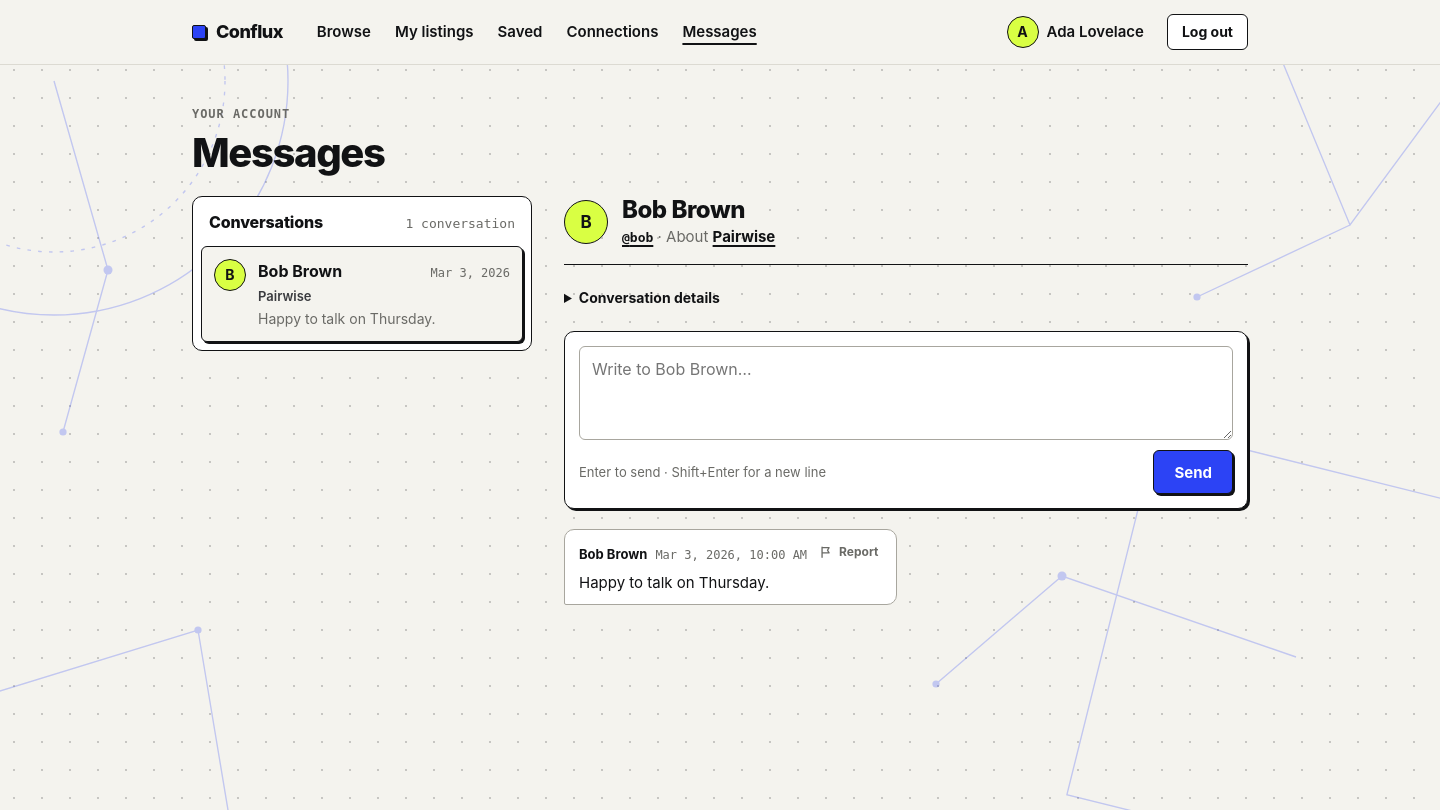
Test case: Sending a message › inserts the message without reloading the thread, and refreshes the list and details from the backend
This screenshot has width=1440, height=810.
Expected: the text "Happy to talk on Thursday." below "Mar 3, 2026, 10:00 AM" is shown, [579,573,769,592]
Type "See you Thursday at 10." into the text box named "Message to Bob Brown" at (906, 393), box [579,346,1233,440]
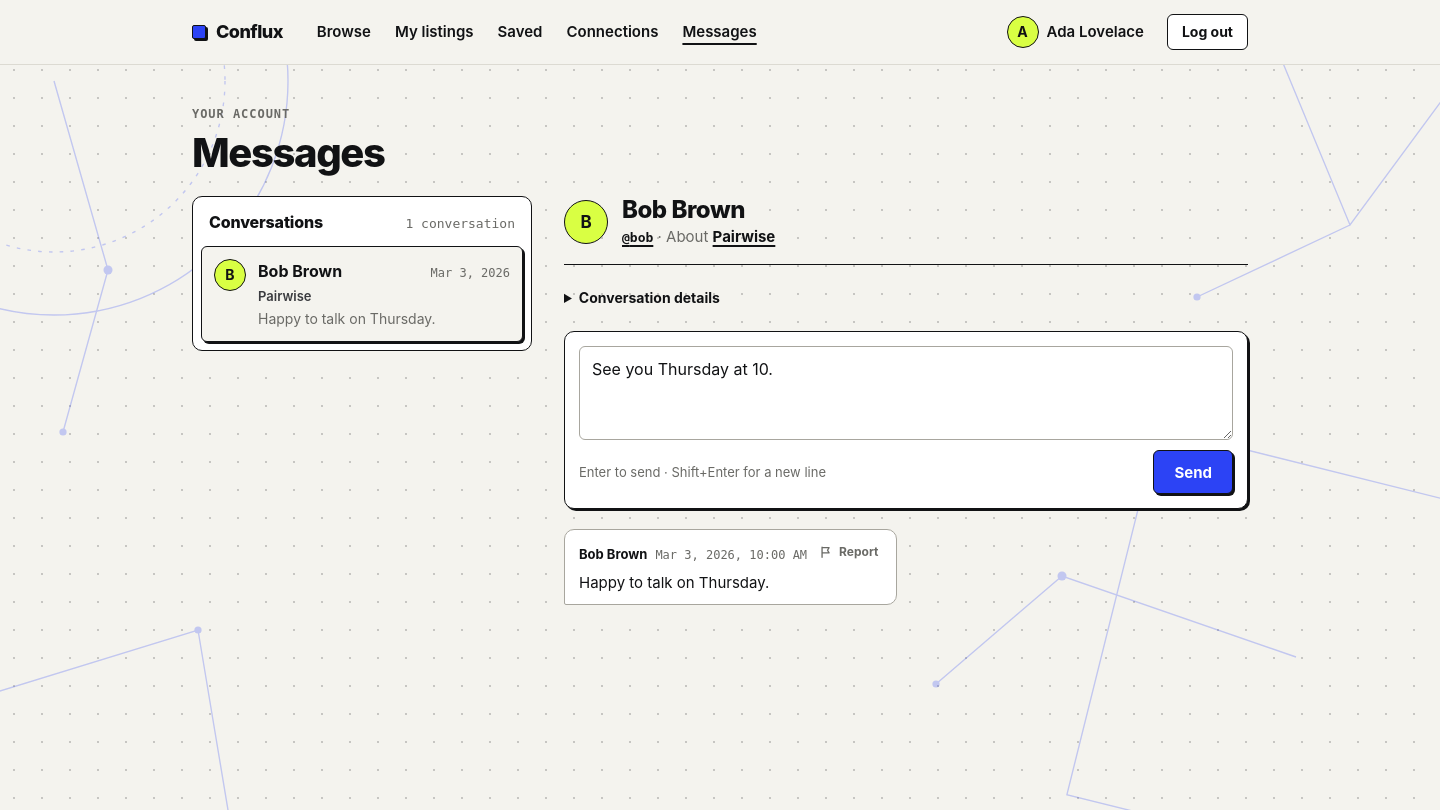
Click the button "Send" at (1193, 472), box [1153,450,1233,494]
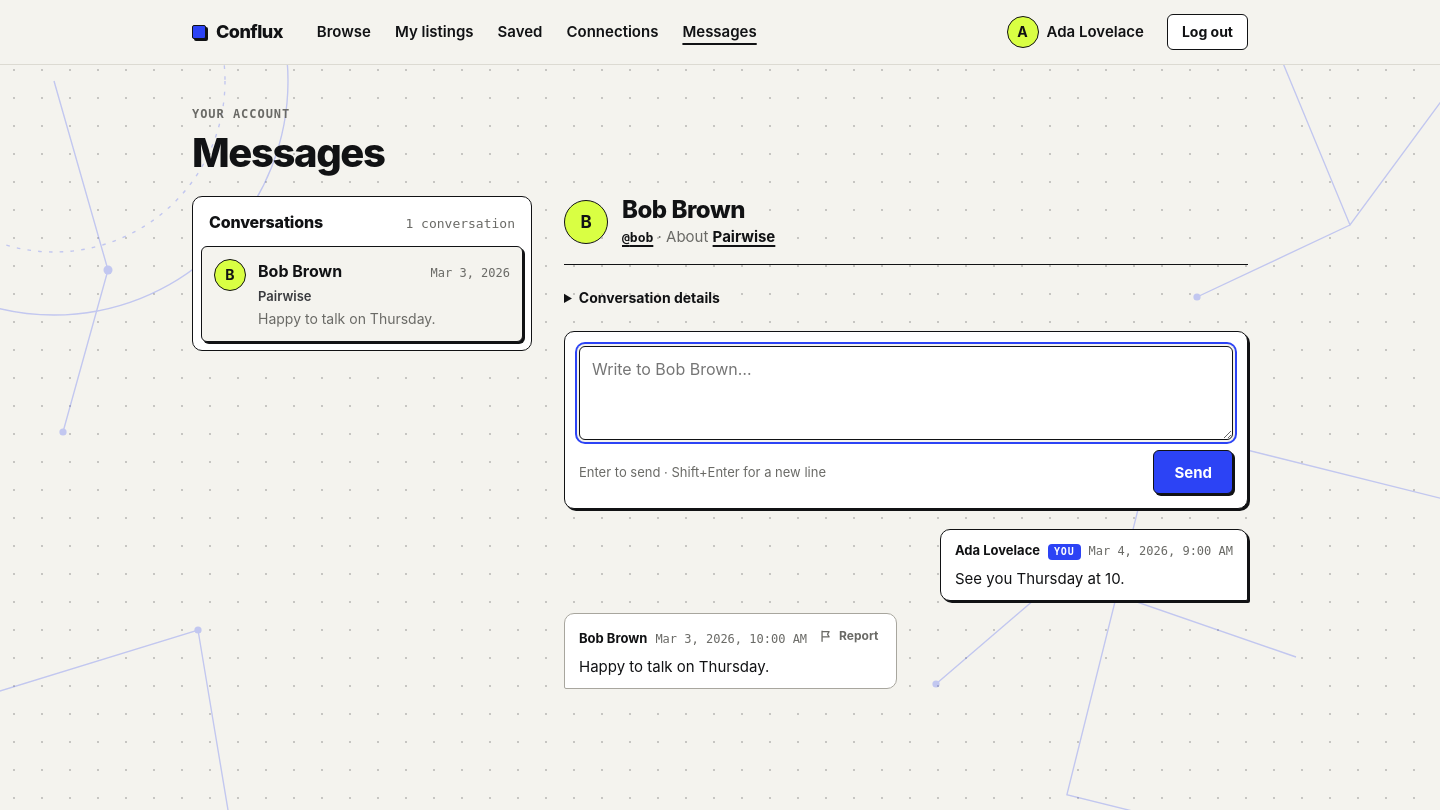
Expected: the heading "Bob Brown" is shown, [622,195,745,224]
Expected: the text with class "message-content" reads "See you Thursday at 10.", [955,569,1124,588]
